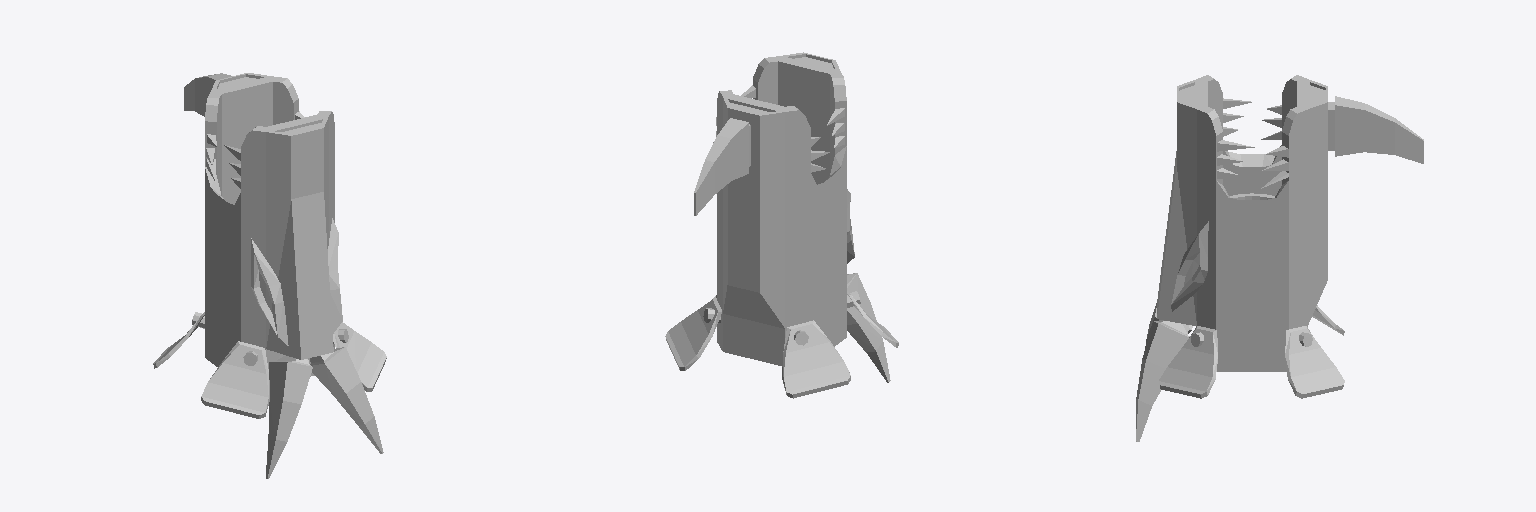
The model's file is GrenadeLauncherGoatMuzzle.obj.
The picture shows the model from 3 angles: view 1: azimuth 30°, elevation 25°; view 2: azimuth 150°, elevation 25°; view 3: azimuth 270°, elevation 25°; orthographic projection.
Parts seen in each view (by area): view 1: MuzzleBreak:9; view 2: MuzzleBreak:9; view 3: MuzzleBreak:9.
Boxes of the visible parts, x1=… form: MuzzleBreak:9: x1=153, y1=73, x2=386, y2=478; MuzzleBreak:9: x1=665, y1=52, x2=898, y2=398; MuzzleBreak:9: x1=1136, y1=75, x2=1423, y2=441.
Size of the model in its own units: 10.04 by 16.96 by 13.72.